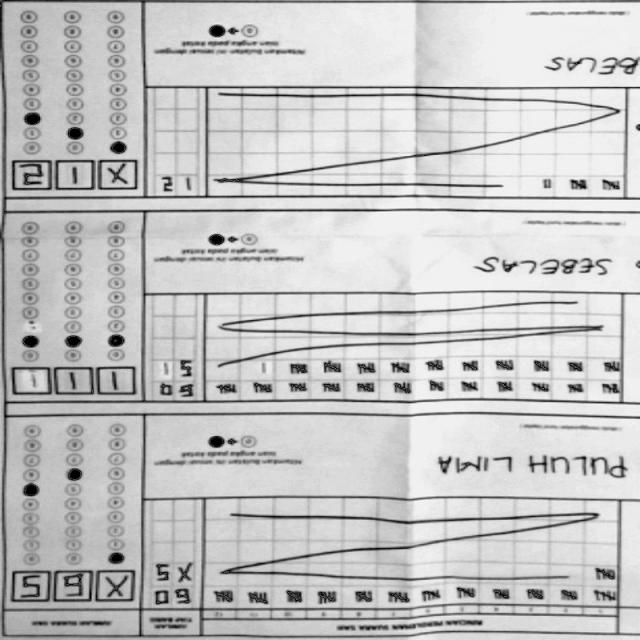Suara: (7, 154, 147, 196), (13, 366, 138, 397), (19, 573, 140, 605)
